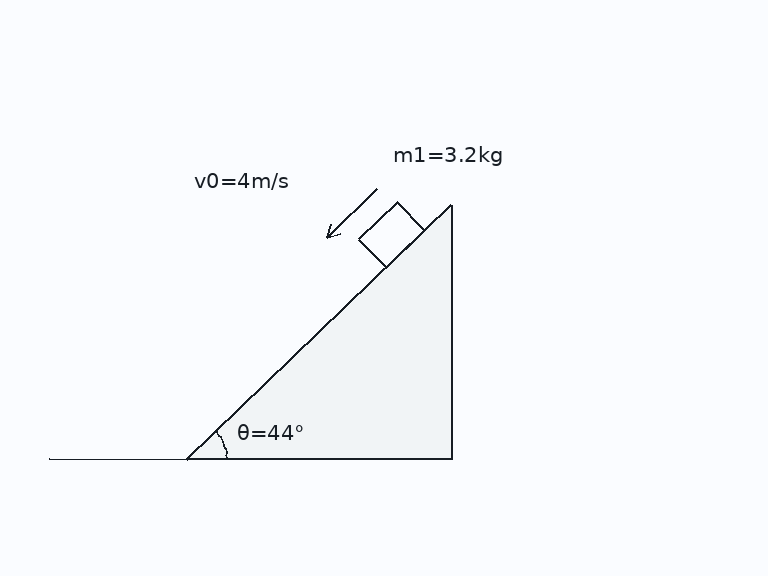block: (357, 200, 426, 269)
ramp: (185, 202, 453, 461)
